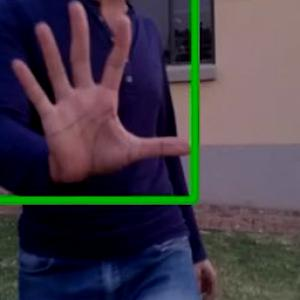follow_hand: (2, 0, 194, 189)
